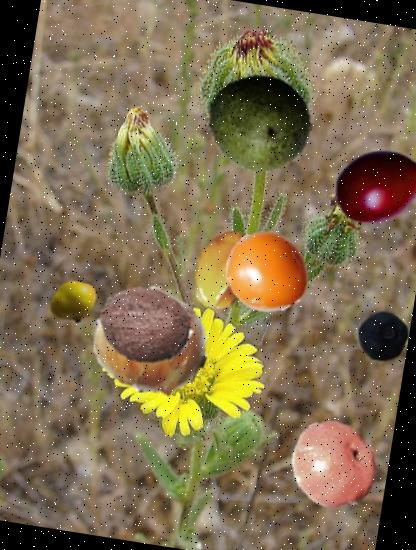Apple: (44, 274, 102, 332)
Avocado: (202, 64, 320, 182)
Blueberry: (353, 308, 411, 366)
Carambula: (178, 222, 278, 322)
Clementine: (280, 412, 388, 521)
Cocos: (90, 269, 202, 382)
Onion: (84, 276, 218, 410)
Tamarillo: (320, 133, 416, 243)
Tomato: (218, 224, 314, 320)
